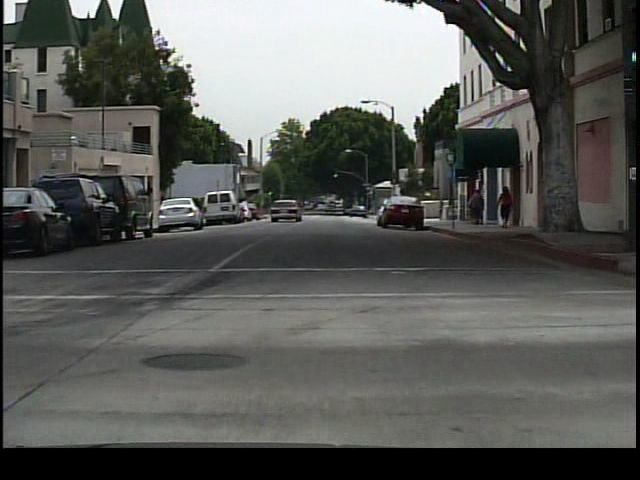person: (495, 184, 517, 232), (464, 186, 485, 229)
